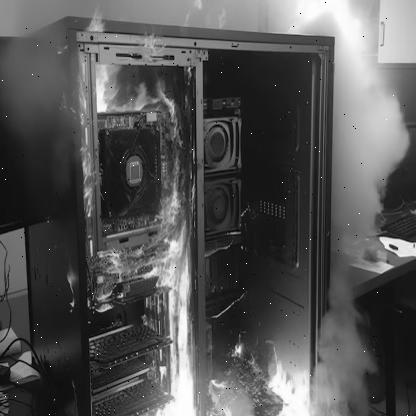fire: (79, 12, 313, 416)
smoke: (2, 2, 413, 416)
